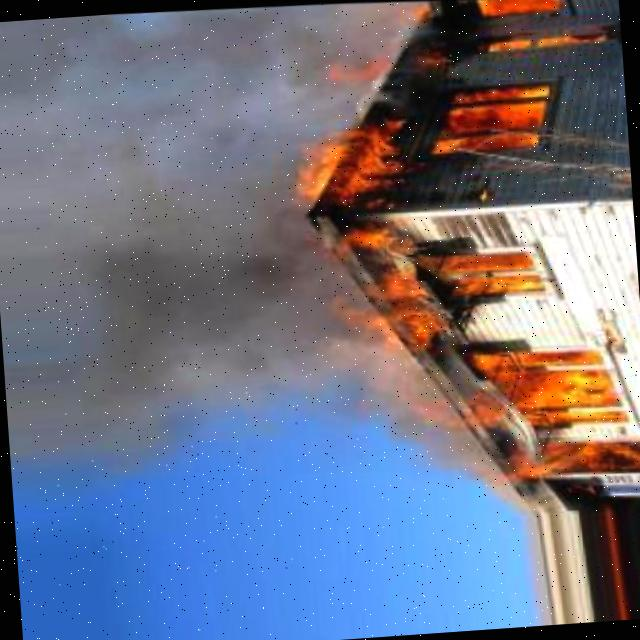fire: (436, 345, 619, 440), (327, 217, 453, 354), (285, 103, 403, 206), (501, 427, 640, 496), (434, 77, 550, 159), (446, 243, 549, 303), (314, 49, 394, 92), (462, 0, 566, 27), (398, 0, 432, 25)
